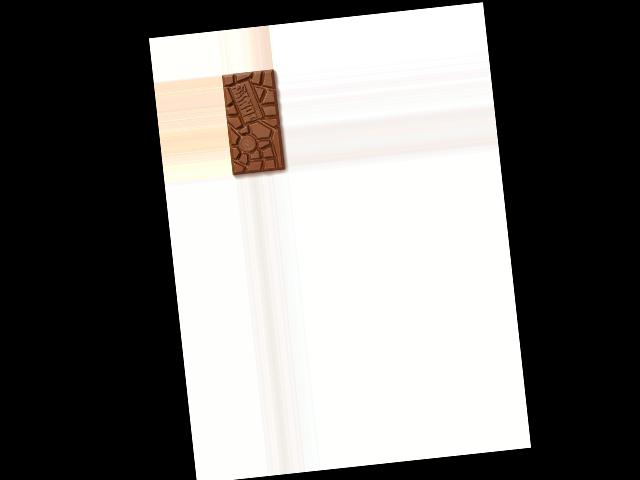chocolate: (222, 68, 287, 176)
